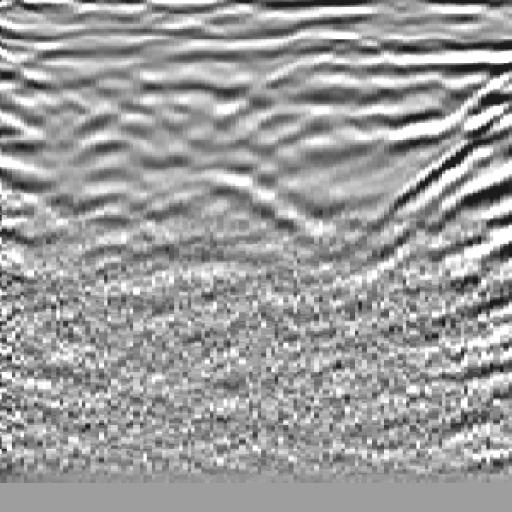metalic: (140, 30, 326, 276)
nonmetalic: (380, 36, 512, 280)
